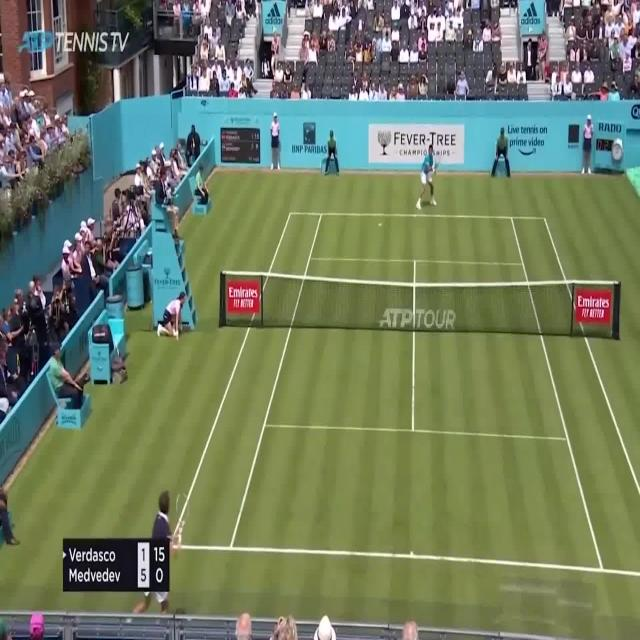bottom-dead-zone: (231, 425, 603, 570)
court: (169, 213, 640, 574)
left-doubles-alley: (170, 214, 321, 549)
left-service-box: (264, 258, 415, 429)
net: (218, 270, 622, 342)
right-doubles-alley: (511, 218, 640, 574)
right-service-box: (412, 259, 570, 440)
top-dead-zone: (310, 215, 523, 263)
